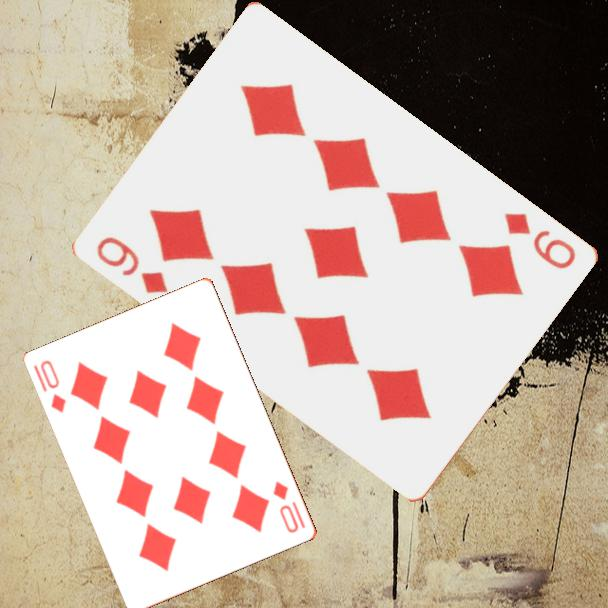d09: (93, 232, 172, 297), (501, 209, 580, 273)
d10: (30, 357, 69, 416), (270, 478, 302, 536)
